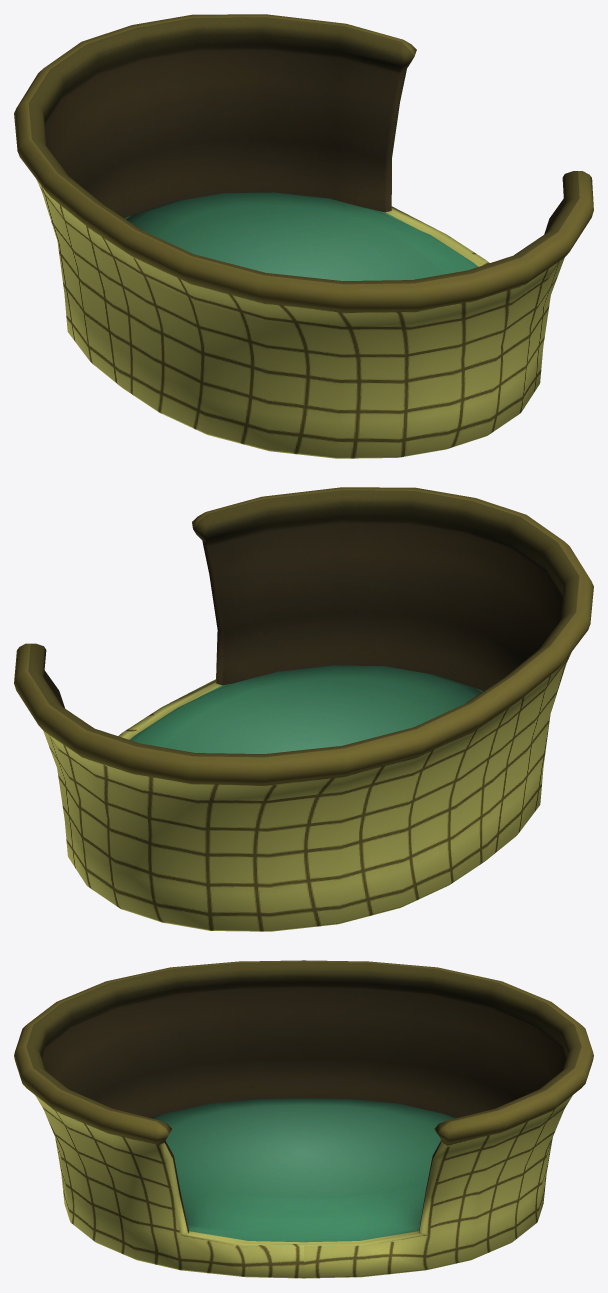
File: pet_bed.glb
3 views of the same model, one above another, from view 1: azimuth 30°, elevation 25°; view 2: azimuth 150°, elevation 25°; view 3: azimuth 270°, elevation 25° (orthographic). The views are drawn at different scales.
Visible parts, largest first — view 1: fc_pet_bed.smd; view 2: fc_pet_bed.smd; view 3: fc_pet_bed.smd.
Part boxes in pixels (x1=…): fc_pet_bed.smd: x1=14, y1=14, x2=593, y2=458; fc_pet_bed.smd: x1=14, y1=487, x2=593, y2=931; fc_pet_bed.smd: x1=14, y1=960, x2=593, y2=1278.
Size of the model in its own units: 0.8361 by 0.3666 by 1.2.
Materials: 1 (1 with a texture image).
